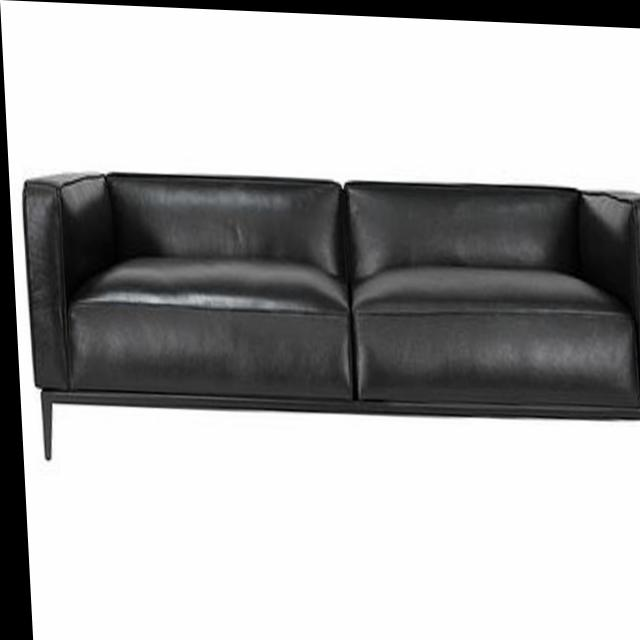Sofa: (16, 159, 640, 482)
